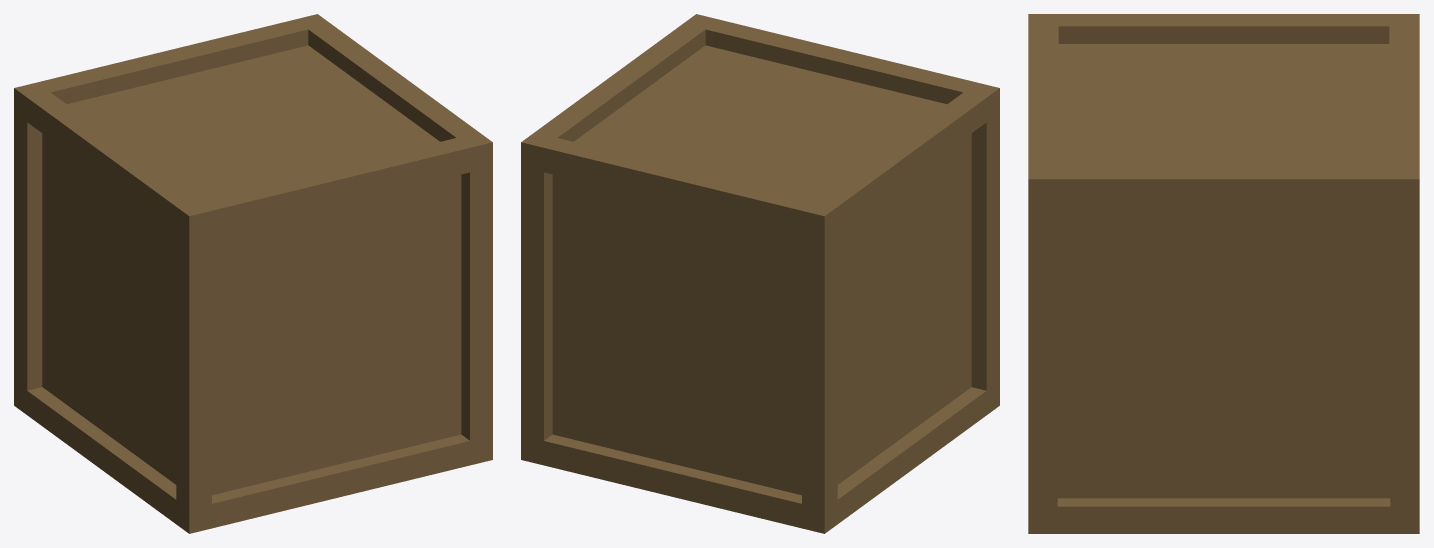
File: WoodenBox.fbx
3 renders of one model, left to right at view 1: azimuth 30°, elevation 25°; view 2: azimuth 150°, elevation 25°; view 3: azimuth 270°, elevation 25°, orthographic. The views are drawn at different scales.
Visible parts, largest first — view 1: Box; view 2: Box; view 3: Box.
Boxes of the visible parts, x1,y1,x2,y2 form: Box: (14,14,492,533); Box: (521,14,999,533); Box: (1028,14,1419,533).
Size of the model in its own units: 1 by 1 by 1.
